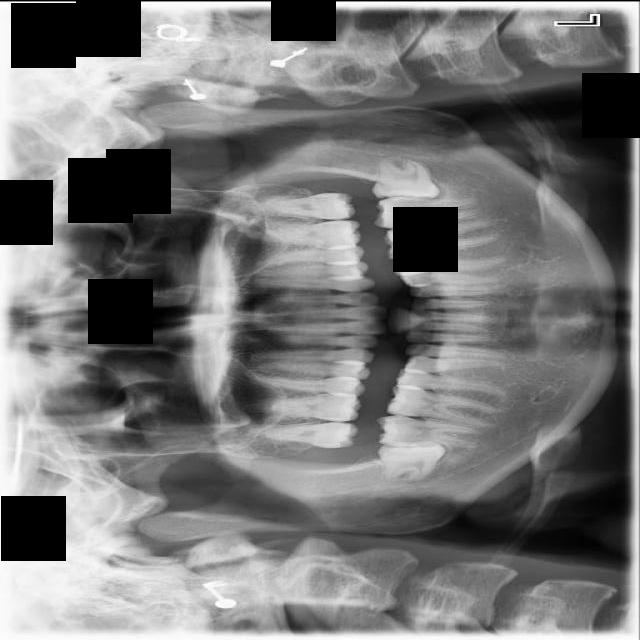73: (562, 20, 576, 27)
BioHorizons Implant: (240, 187, 357, 221)
Biomet 3i Implant: (372, 156, 442, 202)
Blue Sky Bio Implant: (373, 197, 484, 227)
Caries: (243, 420, 358, 451)
Implant: (376, 413, 487, 450)
Keystone Dental Implant: (377, 439, 448, 482)
